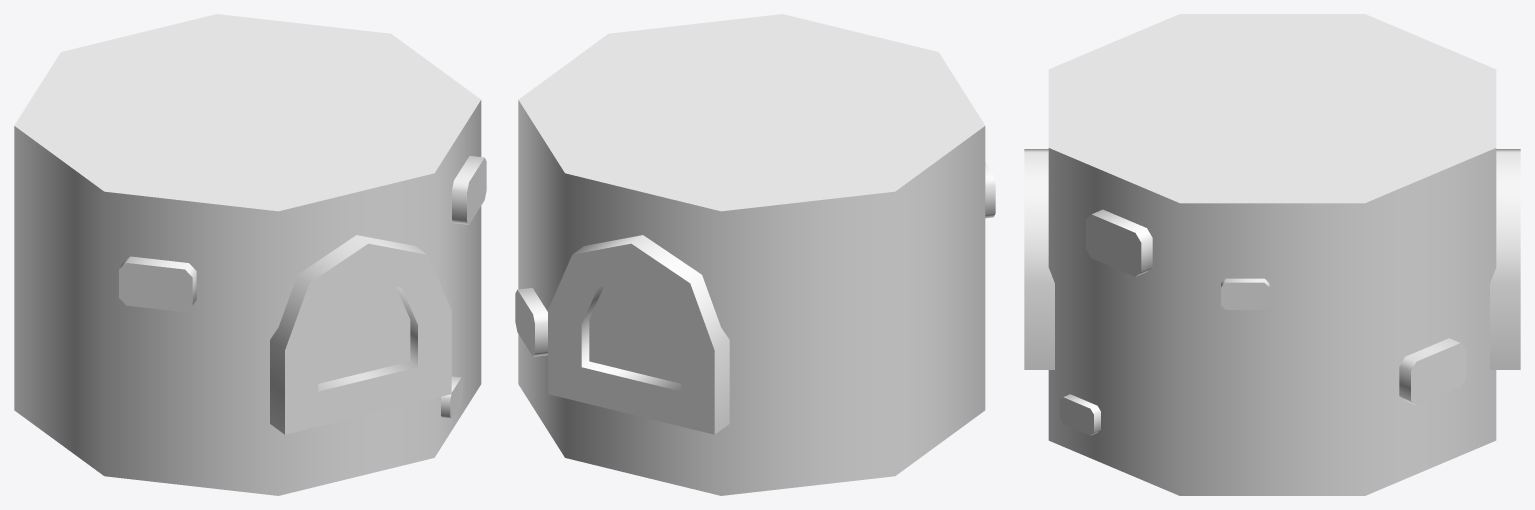
The model's file is tower-middle-windows.glb.
The picture shows the model from 3 angles, left to right: view 1: azimuth 30°, elevation 25°; view 2: azimuth 150°, elevation 25°; view 3: azimuth 270°, elevation 25°; orthographic projection. The views are drawn at different scales.
Parts seen in each view (by area): view 1: tower-middle-windows; view 2: tower-middle-windows; view 3: tower-middle-windows.
Boxes of the visible parts, <box> form: tower-middle-windows: <box>14,14,486,495</box>; tower-middle-windows: <box>515,14,995,495</box>; tower-middle-windows: <box>1024,14,1520,495</box>.
Size of the model in its own units: 2.83 by 2 by 3.07.
Materials: 1 (1 with a texture image).
